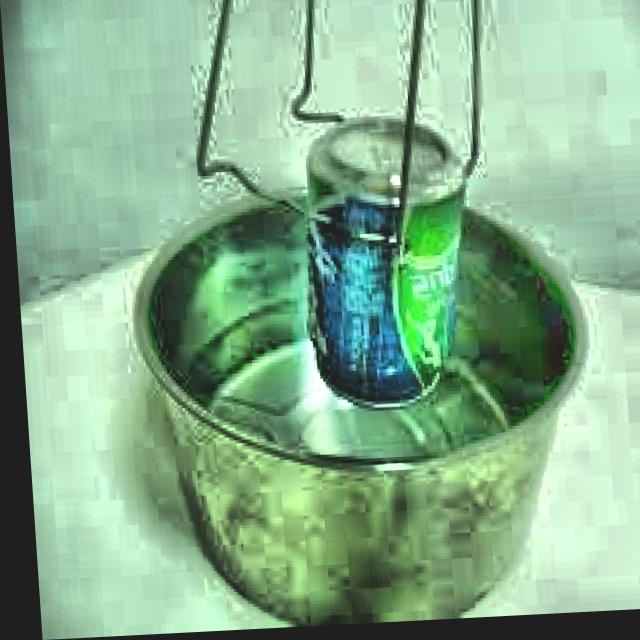can: (276, 106, 481, 425)
